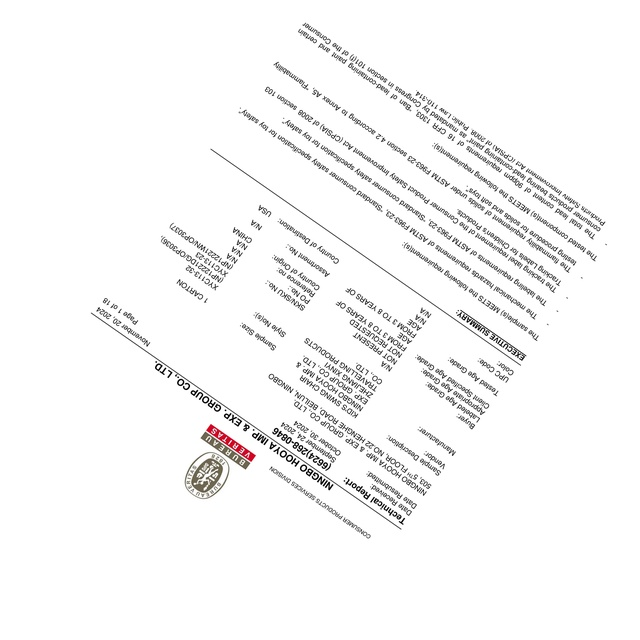bureau_veritas: (181, 420, 257, 506)
